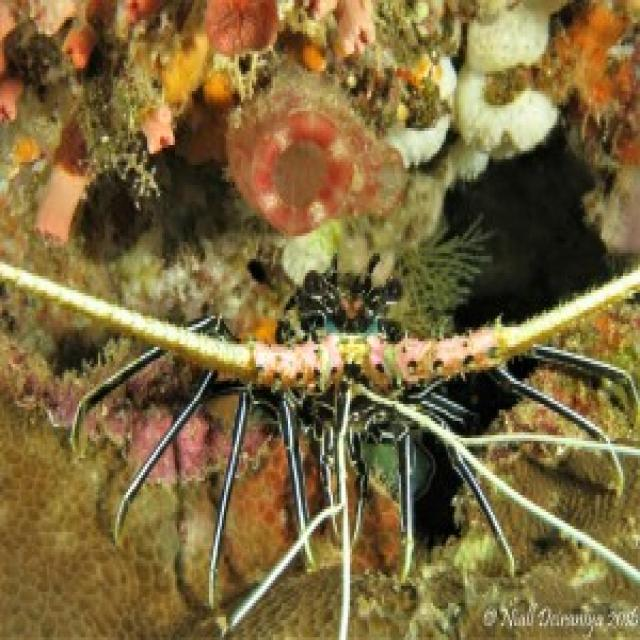lobsters: (50, 177, 640, 569)
